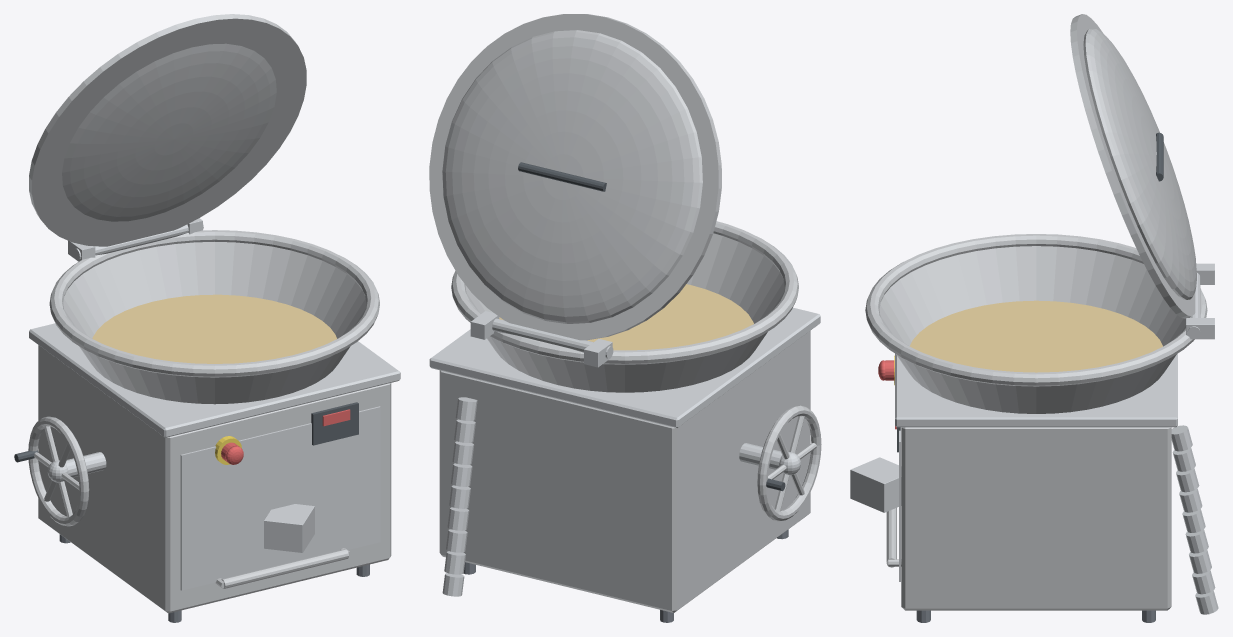
The model's file is env_kettle_nb.glb.
3 renders of one model, left to right at view 1: azimuth 30°, elevation 25°; view 2: azimuth 150°, elevation 25°; view 3: azimuth 270°, elevation 25°, orthographic. The views are drawn at different scales.
Parts seen in each view (by area): view 1: EnvKettleNb_00, EnvKettleNb_36, EnvKettleNb_06, EnvKettleNb_07, EnvKettleNb_35, EnvKettleNb_09, EnvKettleNb_08, EnvKettleNb_01, EnvKettleNb_11, EnvKettleNb_22, EnvKettleNb_23, EnvKettleNb_20 (+2 smaller); view 2: EnvKettleNb_00, EnvKettleNb_36, EnvKettleNb_35, EnvKettleNb_07, EnvKettleNb_01, EnvKettleNb_08, EnvKettleNb_09, EnvKettleNb_11, EnvKettleNb_39, EnvKettleNb_40, EnvKettleNb_10, EnvKettleNb_37 (+1 smaller); view 3: EnvKettleNb_00, EnvKettleNb_07, EnvKettleNb_09, EnvKettleNb_36, EnvKettleNb_08, EnvKettleNb_01, EnvKettleNb_35, EnvKettleNb_22, EnvKettleNb_23, EnvKettleNb_38.
Boxes of the visible parts, bbox=[...] form: EnvKettleNb_00: bbox=[38, 345, 391, 613]; EnvKettleNb_36: bbox=[62, 43, 276, 221]; EnvKettleNb_06: bbox=[180, 406, 380, 590]; EnvKettleNb_07: bbox=[63, 242, 366, 404]; EnvKettleNb_35: bbox=[29, 14, 306, 246]; EnvKettleNb_09: bbox=[92, 294, 336, 363]; EnvKettleNb_08: bbox=[49, 230, 379, 377]; EnvKettleNb_01: bbox=[29, 323, 400, 437]; EnvKettleNb_11: bbox=[28, 416, 89, 526]; EnvKettleNb_22: bbox=[264, 504, 314, 552]; EnvKettleNb_23: bbox=[221, 549, 348, 588]; EnvKettleNb_20: bbox=[311, 402, 358, 445]; EnvKettleNb_00: bbox=[439, 330, 810, 612]; EnvKettleNb_36: bbox=[442, 30, 702, 323]; EnvKettleNb_35: bbox=[429, 14, 721, 340]; EnvKettleNb_07: bbox=[465, 233, 784, 392]; EnvKettleNb_01: bbox=[429, 307, 820, 427]; EnvKettleNb_08: bbox=[451, 221, 798, 364]; EnvKettleNb_09: bbox=[499, 284, 753, 350]; EnvKettleNb_11: bbox=[757, 405, 821, 521]; EnvKettleNb_39: bbox=[492, 318, 613, 358]; EnvKettleNb_40: bbox=[518, 162, 606, 191]; EnvKettleNb_10: bbox=[739, 443, 781, 469]; EnvKettleNb_37: bbox=[584, 339, 612, 367]; EnvKettleNb_00: bbox=[901, 427, 1171, 610]; EnvKettleNb_07: bbox=[879, 246, 1185, 413]; EnvKettleNb_09: bbox=[909, 300, 1162, 372]; EnvKettleNb_36: bbox=[1083, 28, 1196, 299]; EnvKettleNb_08: bbox=[865, 234, 1207, 386]; EnvKettleNb_01: bbox=[895, 353, 1177, 427]; EnvKettleNb_35: bbox=[1070, 14, 1195, 318]; EnvKettleNb_22: bbox=[850, 457, 901, 512]; EnvKettleNb_23: bbox=[886, 508, 896, 567]; EnvKettleNb_38: bbox=[1186, 318, 1214, 339].
Bounding box in the file's own units: 1.18 × 1.86 × 1.14.
